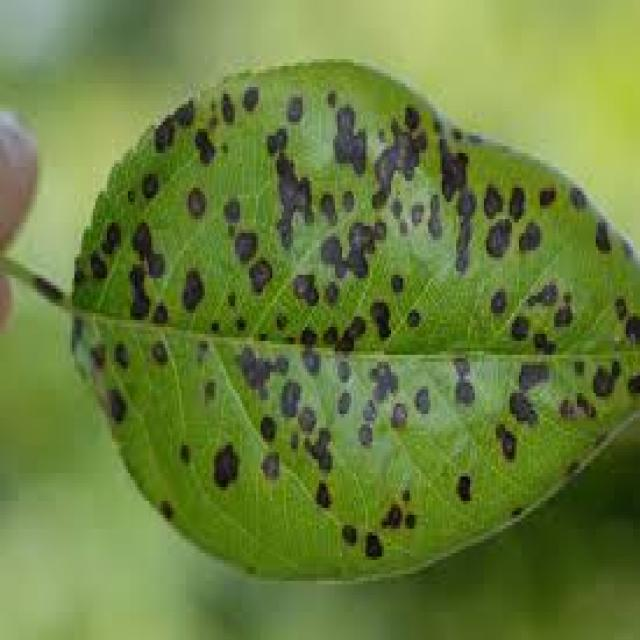black-spot: (206, 174, 433, 548)
